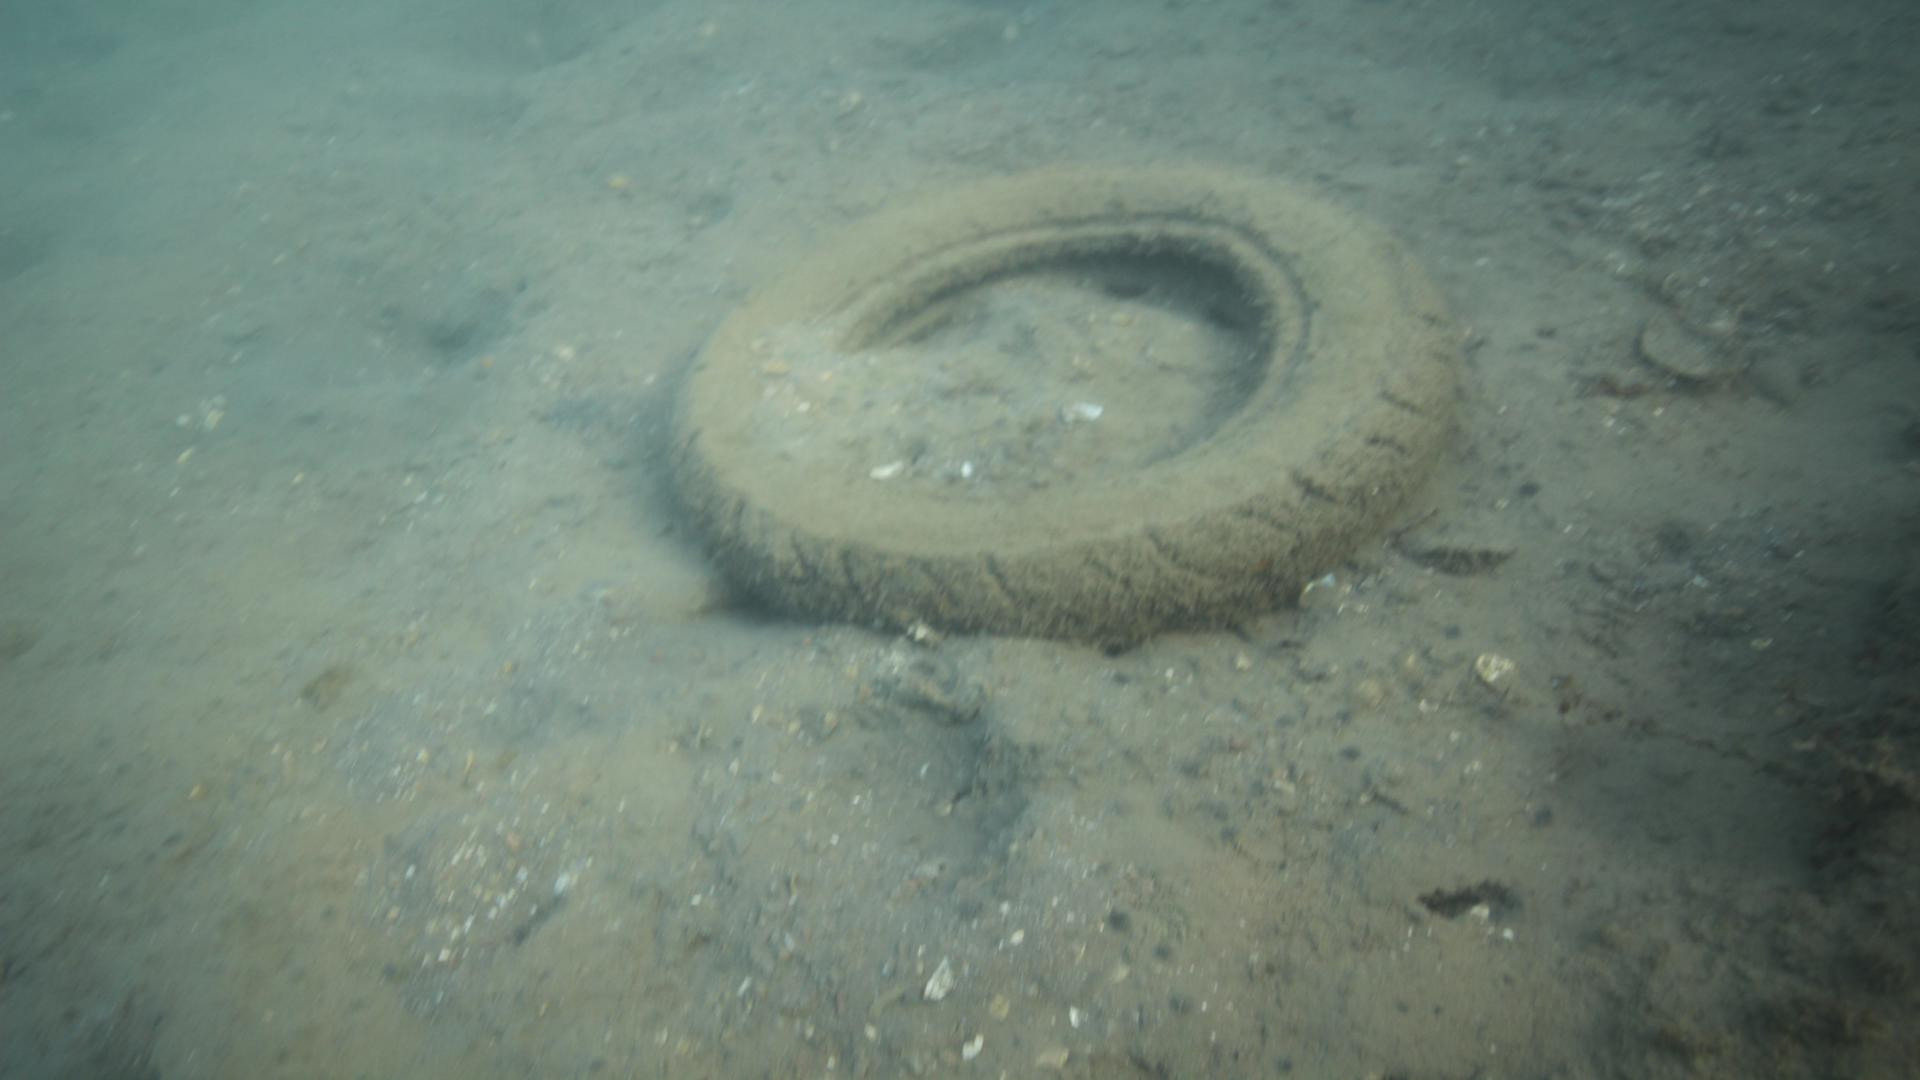tire: (666, 158, 1465, 642)
